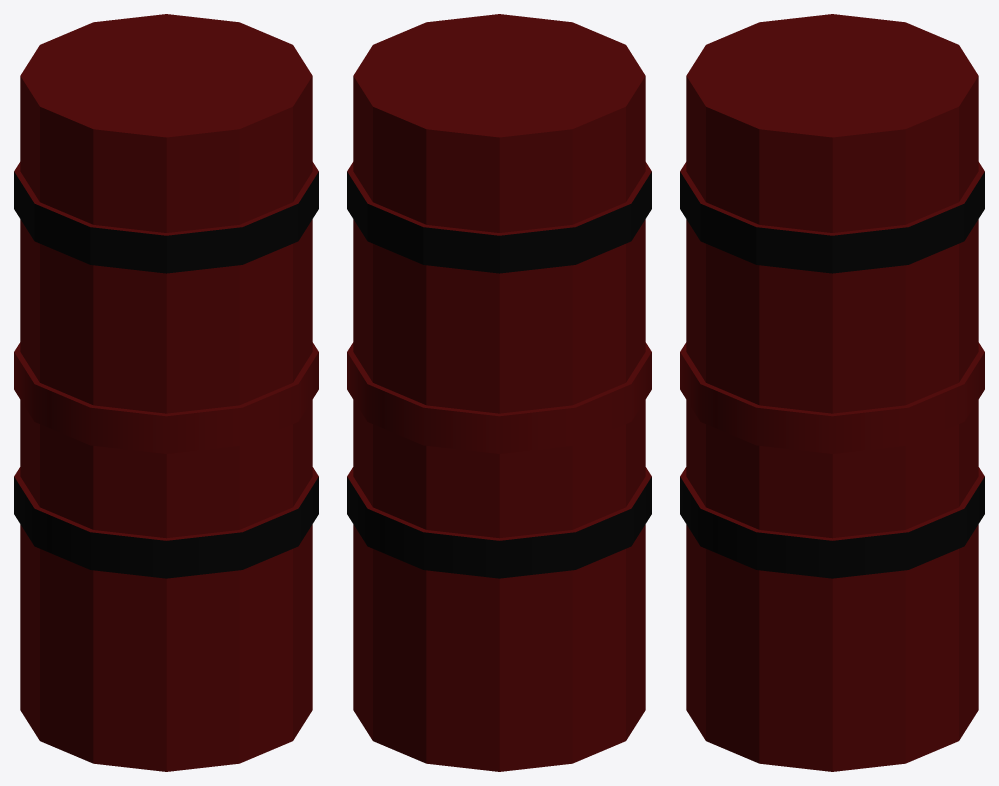
The model's file is RedBarrel.fbx.
3 views of the same model, side by side, from view 1: azimuth 30°, elevation 25°; view 2: azimuth 150°, elevation 25°; view 3: azimuth 270°, elevation 25° (orthographic).
Parts seen in each view (by area): view 1: pCylinder1; view 2: pCylinder1; view 3: pCylinder1.
Boxes of the visible parts, box(x1,y1,x2,y2) form: pCylinder1: box(14, 14, 318, 771); pCylinder1: box(347, 14, 651, 771); pCylinder1: box(680, 14, 984, 771).
Bounding box in the file's own units: 2.09 × 4.79 × 2.09.
